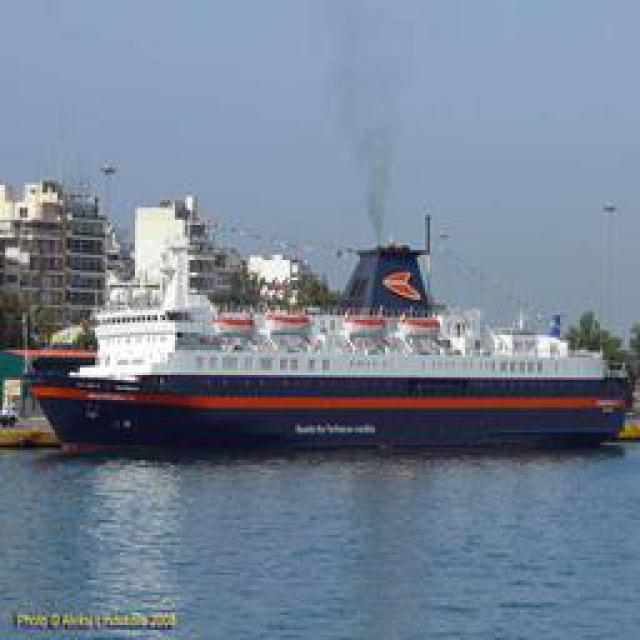Ship: (35, 225, 625, 455)
